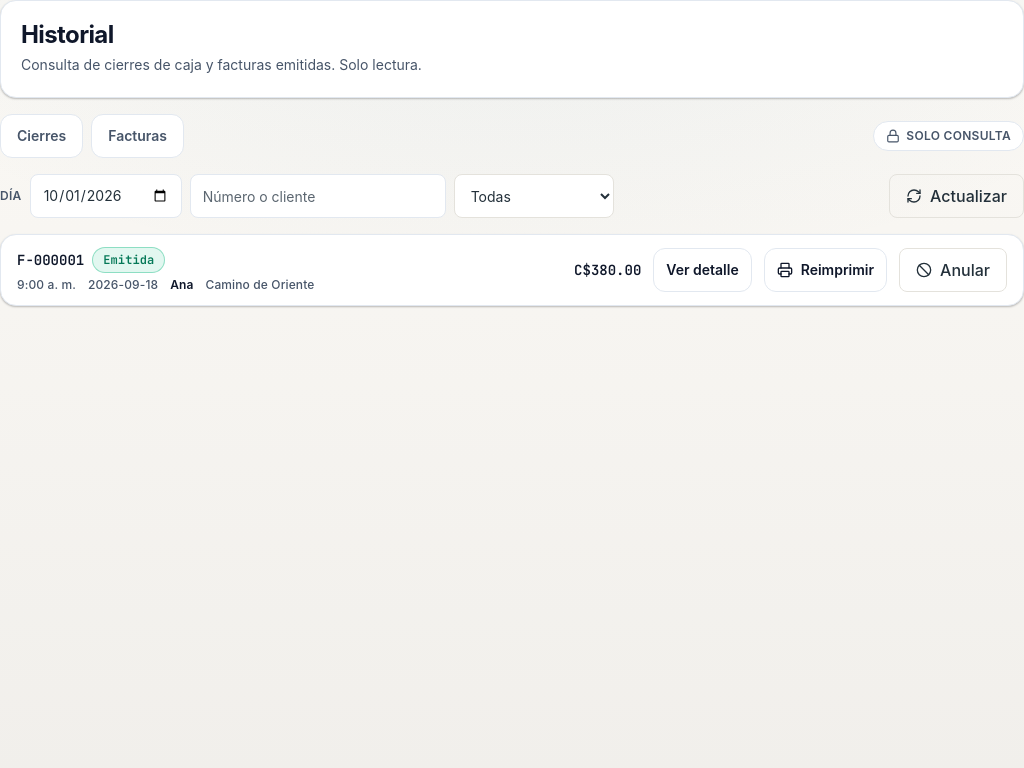
Historial › Facturas › «Otro» pide el texto antes de mandar nada
expect the text "F-000001" is shown: met, box [17,251,84,269]
Click the button "Anular" at (953, 270), box [899,248,1007,292]
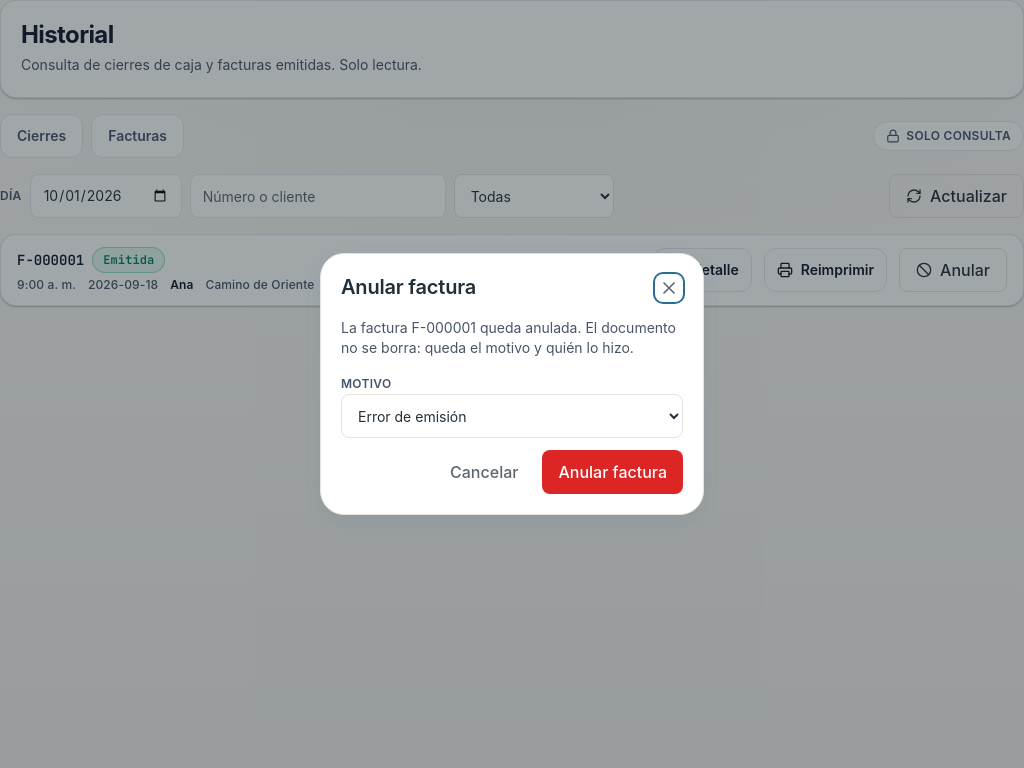
Select "Otro" in the dropdown labelled "Motivo" at (512, 416), box [341,394,683,438]
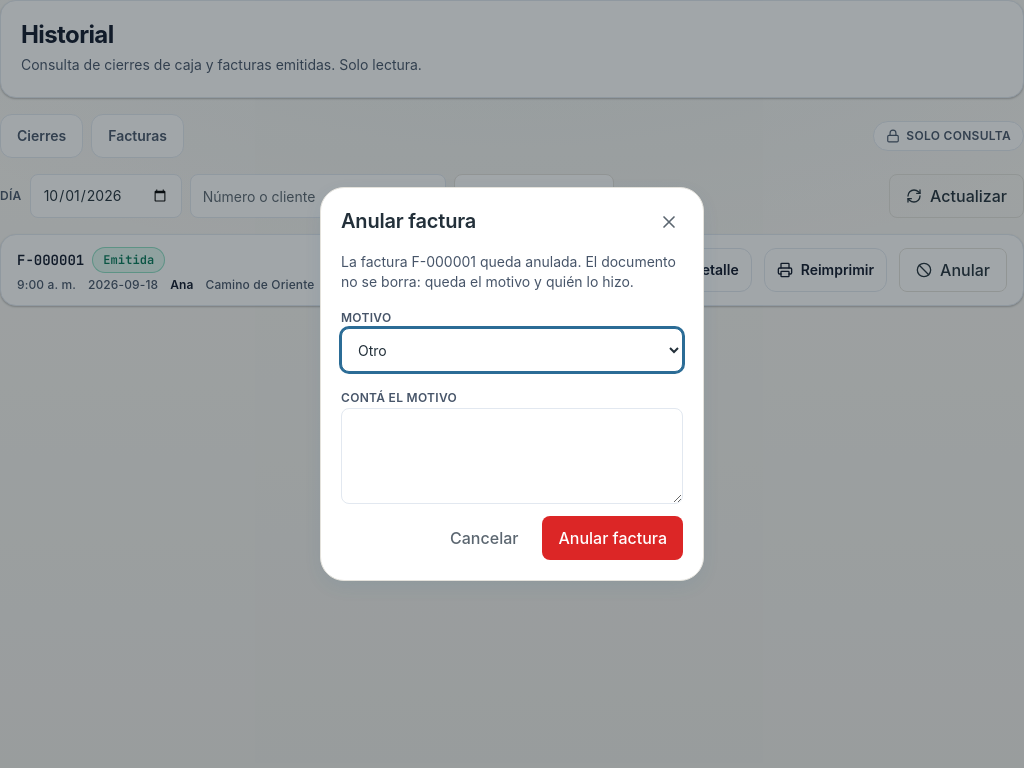
expect the text box labelled "Contá el motivo" is shown: met, box [341,408,683,504]
